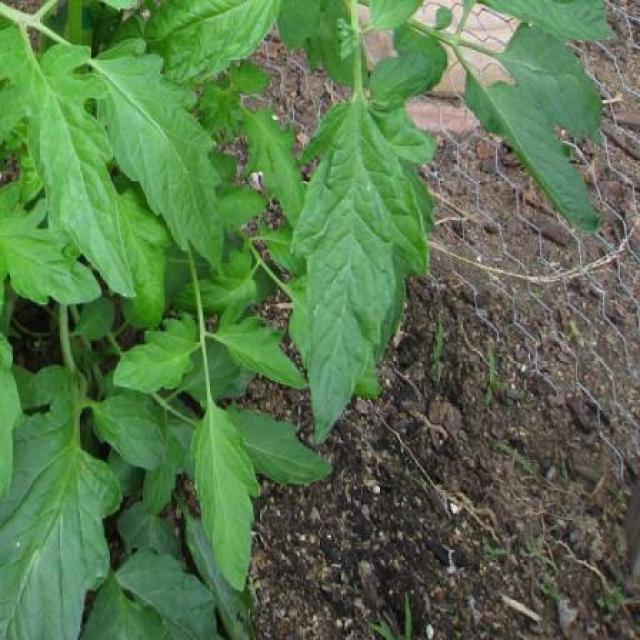Healthy: (292, 102, 428, 444), (0, 22, 139, 301), (0, 364, 127, 640), (92, 22, 232, 271), (459, 76, 604, 240), (0, 169, 104, 307), (191, 406, 263, 588), (503, 21, 604, 145), (220, 298, 310, 389), (112, 312, 197, 392), (94, 394, 166, 472)
